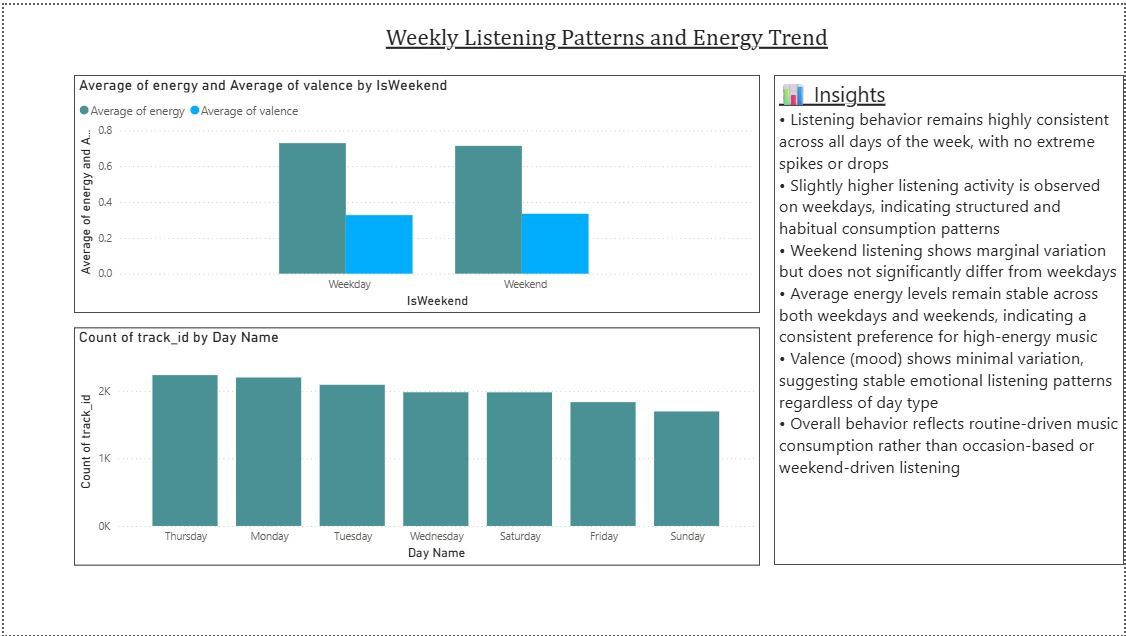

This screenshot's page, from the dashboard's own definition file:
{"tool":"powerbi","page":{"name":"Weekly Listening Patterns and Energy Trends","canvas":[1280,720],"ordinal":3},"visuals":[{"type":"clusteredColumnChart","fields":{"Category":["emotionanalysis.IsWeekend"],"Y":["Avg(emotionanalysis.energy)","Avg(emotionanalysis.valence)"]},"box":[32,80,784,272],"z":0},{"type":"columnChart","fields":{"Category":["emotionanalysis.Day Name"],"Y":["CountNonNull(emotionanalysis.track_id)"]},"box":[32,368,784,272],"z":1000},{"type":"textbox","box":[848,80,400,560],"z":2000},{"type":"textbox","box":[432,16,720,48],"z":3000}]}

Visuals, with their boxes in screenshot pixels (x1, y1, x2, y2), scaled from the page's 1280x720 canvas onto the 1126x636 screenshot:
clusteredColumnChart - emotionanalysis.IsWeekend x Avg(emotionanalysis.energy): 28, 71, 718, 311
columnChart - emotionanalysis.Day Name x CountNonNull(emotionanalysis.track_id): 28, 325, 718, 565
textbox: 746, 71, 1098, 565
textbox: 380, 14, 1013, 57
